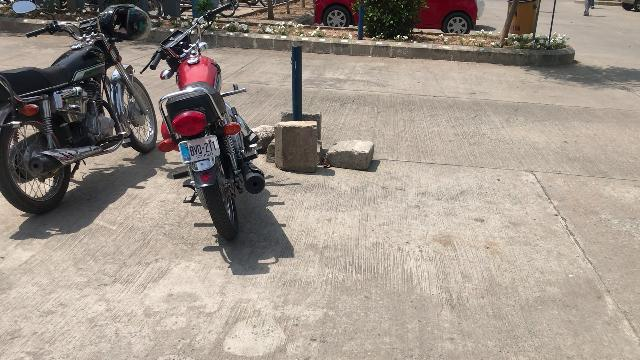plate: (179, 134, 221, 166)
